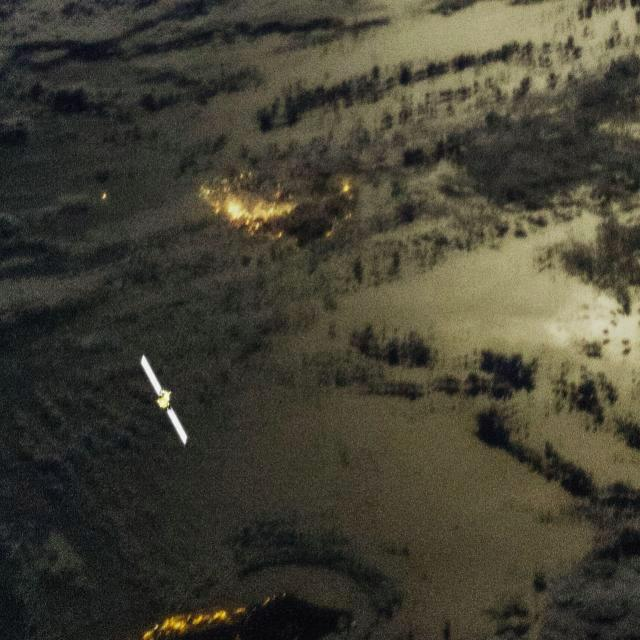satellite: (131, 328, 209, 466)
